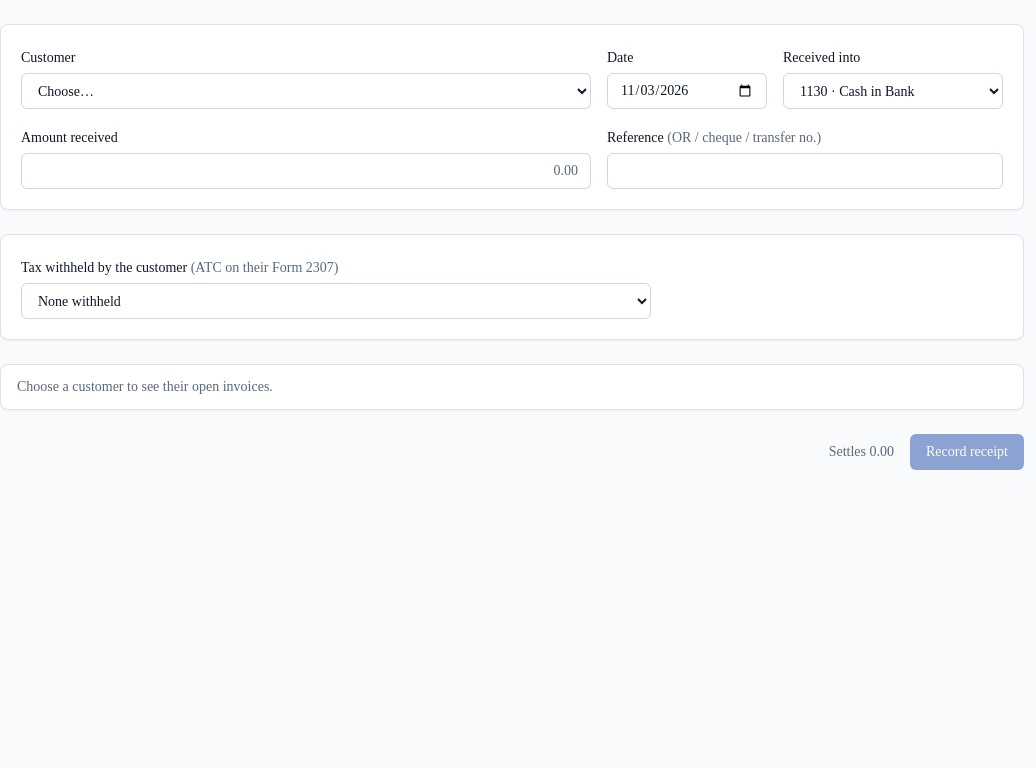
Test: PaymentForm (receipt) › blocks over-allocation
Select "Client Corp" in the dropdown labelled "Customer" at (306, 91), box [21, 73, 591, 109]
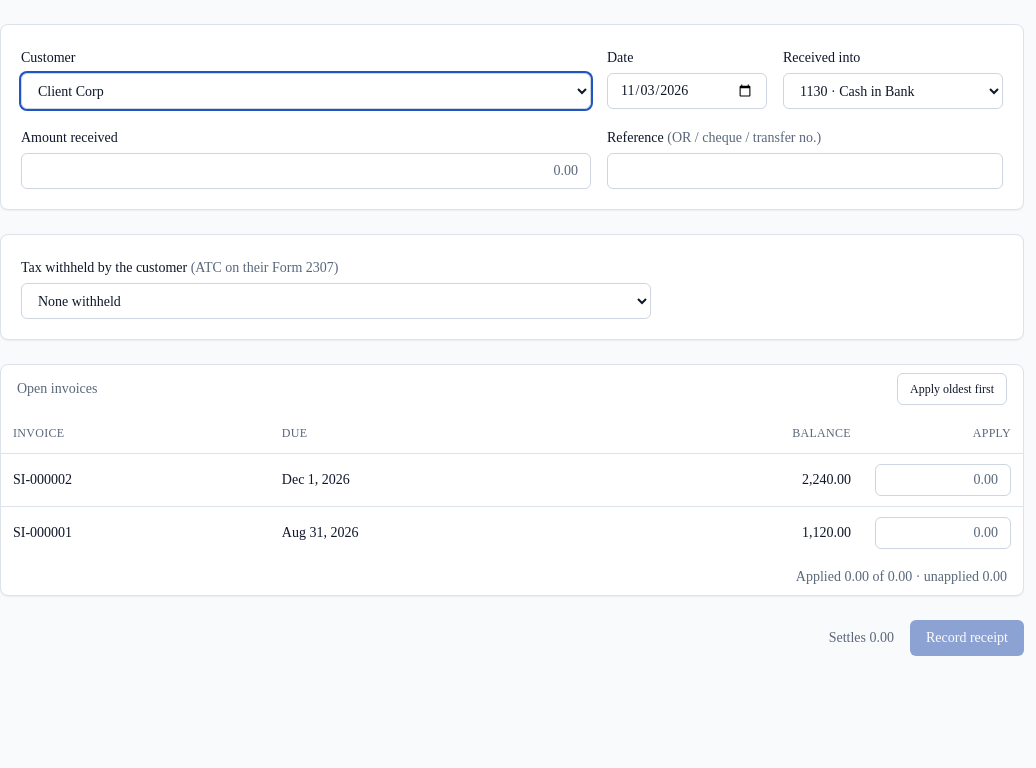
Type "100" into the field labelled "Amount received" at (306, 171), box [21, 153, 591, 189]
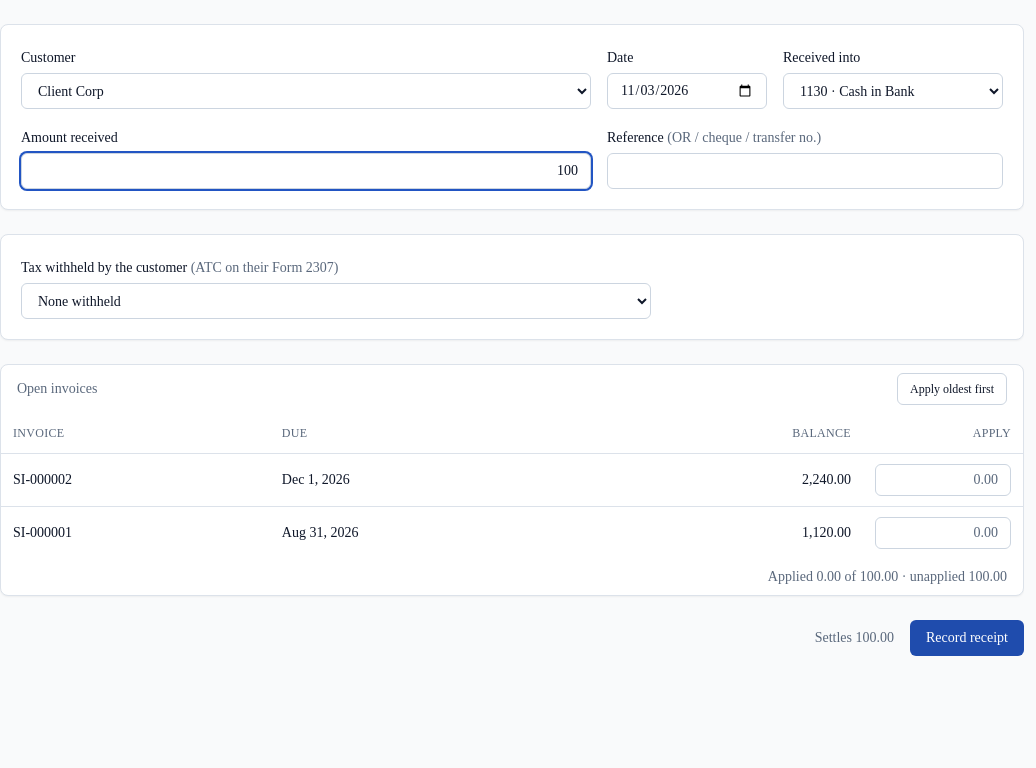
Type "500" into the field named "Apply to SI-000001" at (943, 532), box [875, 516, 1011, 548]
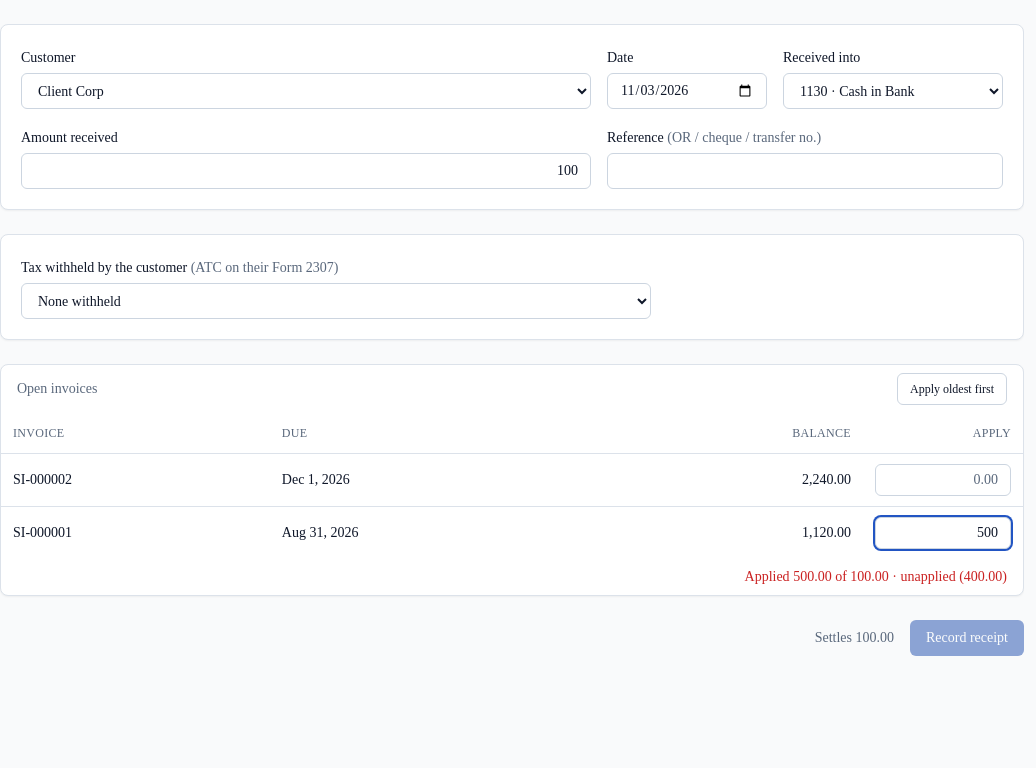
Check: the button "Record receipt" is disabled, box [910, 620, 1024, 656]
